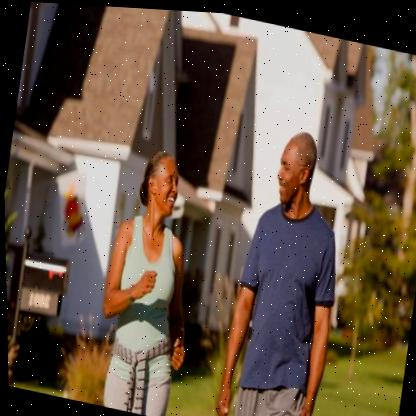person: (200, 109, 369, 416), (74, 135, 222, 416)
